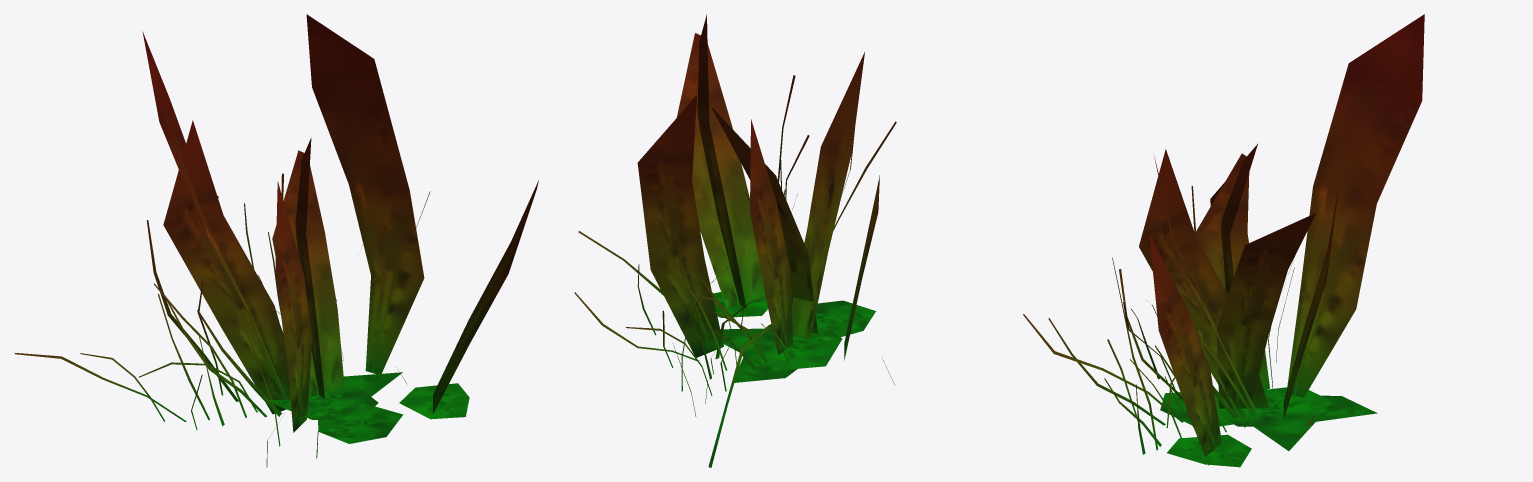
The model's file is Thatching Grass_LOD1_Var12_uddmcgbia.glb.
The picture shows the model from 3 angles, left to right: view 1: azimuth 30°, elevation 25°; view 2: azimuth 150°, elevation 25°; view 3: azimuth 270°, elevation 25°; orthographic projection.
Parts seen in each view (by area): view 1: _e1b5_Var12_LOD1; view 2: _e1b5_Var12_LOD1; view 3: _e1b5_Var12_LOD1.
Boxes of the visible parts, x1,y1,x2,y2 form: _e1b5_Var12_LOD1: (14, 14, 538, 467); _e1b5_Var12_LOD1: (574, 14, 896, 467); _e1b5_Var12_LOD1: (1023, 14, 1424, 467).
Size of the model in its own units: 0.1555 by 0.1284 by 0.148.
Materials: 1 (1 with a texture image).
